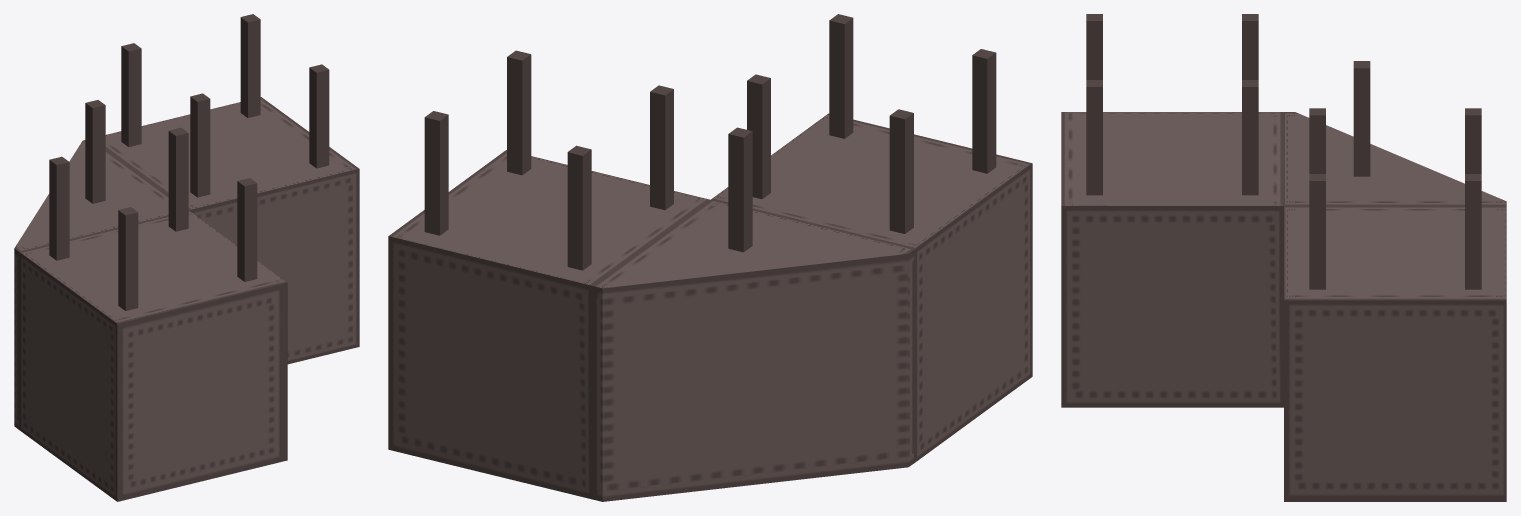
Rendered from Vent_2.fbx.
3 views of the same model, side by side, from view 1: azimuth 30°, elevation 25°; view 2: azimuth 150°, elevation 25°; view 3: azimuth 270°, elevation 25° (orthographic). The views are drawn at different scales.
Parts seen in each view (by area): view 1: Vent_2; view 2: Vent_2; view 3: Vent_2.
Boxes of the visible parts, x1,y1,x2,y2 form: Vent_2: [14, 14, 359, 501]; Vent_2: [388, 14, 1032, 501]; Vent_2: [1061, 14, 1506, 501].
Bounding box in the file's own units: 400 × 308 × 400.
